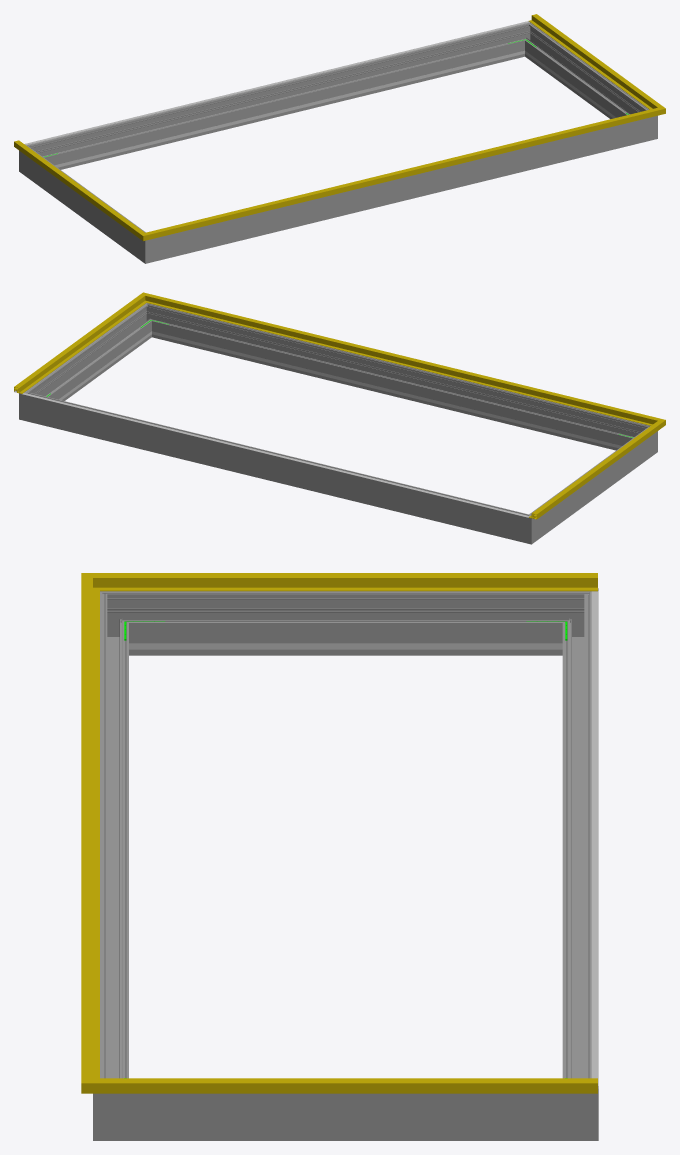
The picture shows the model from 3 angles, top to bottom: view 1: azimuth 30°, elevation 25°; view 2: azimuth 150°, elevation 25°; view 3: azimuth 270°, elevation 25°; orthographic projection. The views are drawn at different scales.
Parts seen in each view (by area): view 1: 3DGeom-278, 3DGeom-300, 3DGeom-123, 3DGeom-299, 3DGeom-270, 3DGeom-246, 3DGeom-128, 3DGeom-118, 3DGeom-222, 3DGeom-272, 3DGeom-286, 3DGeom-292; view 2: 3DGeom-300, 3DGeom-278, 3DGeom-123, 3DGeom-299, 3DGeom-270, 3DGeom-241, 3DGeom-128, 3DGeom-118, 3DGeom-222, 3DGeom-280, 3DGeom-286, 3DGeom-292; view 3: 3DGeom-270, 3DGeom-299, 3DGeom-278, 3DGeom-300, 3DGeom-123, 3DGeom-118, 3DGeom-128, 3DGeom-222, 3DGeom-234, 3DGeom-286, 3DGeom-292, 3DGeom-280 (+3 smaller).
Part boxes in pixels (x1,y1,x2,y2): 3DGeom-278: (39, 26, 521, 169); 3DGeom-300: (164, 120, 639, 259); 3DGeom-123: (159, 111, 647, 236); 3DGeom-299: (526, 29, 643, 119); 3DGeom-270: (29, 151, 140, 255); 3DGeom-246: (61, 55, 506, 166); 3DGeom-128: (529, 14, 654, 107); 3DGeom-118: (14, 140, 136, 232); 3DGeom-222: (24, 21, 529, 145); 3DGeom-272: (134, 228, 163, 263); 3DGeom-286: (514, 22, 539, 57); 3DGeom-292: (639, 106, 657, 143); 3DGeom-300: (155, 307, 637, 450); 3DGeom-278: (37, 395, 515, 539); 3DGeom-123: (157, 297, 646, 423); 3DGeom-299: (32, 309, 149, 400); 3DGeom-270: (536, 432, 647, 536); 3DGeom-241: (170, 335, 615, 447); 3DGeom-128: (14, 300, 140, 393); 3DGeom-118: (529, 426, 655, 519); 3DGeom-222: (22, 393, 529, 517); 3DGeom-280: (513, 509, 542, 544); 3DGeom-286: (19, 386, 40, 423); 3DGeom-292: (137, 303, 162, 338); 3DGeom-270: (136, 591, 555, 655); 3DGeom-299: (136, 1093, 555, 1140); 3DGeom-278: (562, 606, 591, 1078); 3DGeom-300: (100, 606, 128, 1078); 3DGeom-123: (81, 591, 99, 1074); 3DGeom-118: (124, 573, 597, 591); 3DGeom-128: (124, 1078, 597, 1093); 3DGeom-222: (591, 591, 598, 1086); 3DGeom-234: (170, 643, 521, 649); 3DGeom-286: (555, 1070, 598, 1140); 3DGeom-292: (93, 1070, 135, 1140); 3DGeom-280: (555, 588, 598, 655).
Bounding box in the file's own units: 4.27 × 0.2434 × 1.83.
